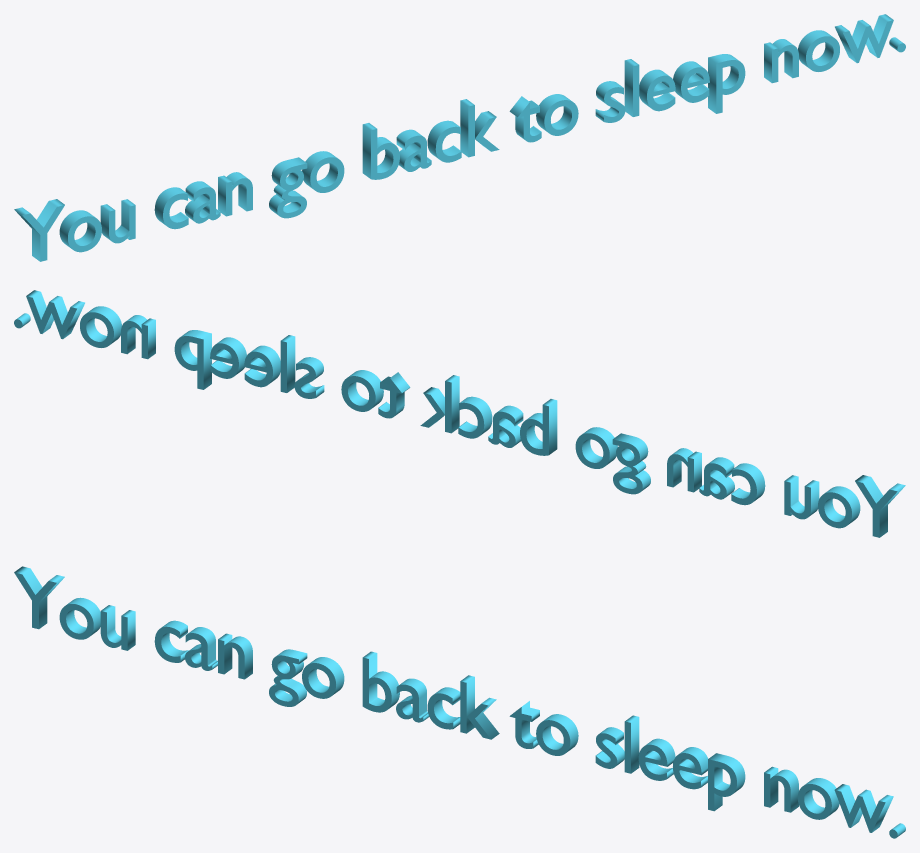
The model's file is console_ending_005.fbx.
3 views of the same model, one above another, from view 1: azimuth 30°, elevation 25°; view 2: azimuth 150°, elevation 25°; view 3: azimuth 330°, elevation 25° (orthographic).
Parts seen in each view (by area): view 1: Txt_Test_01.053; view 2: Txt_Test_01.053; view 3: Txt_Test_01.053.
Boxes of the visible parts, x1=… form: Txt_Test_01.053: x1=14, y1=14, x2=905, y2=261; Txt_Test_01.053: x1=14, y1=290, x2=905, y2=537; Txt_Test_01.053: x1=14, y1=566, x2=905, y2=838.
Bounding box in the file's own units: 1.67 × 0.123 × 0.027.
